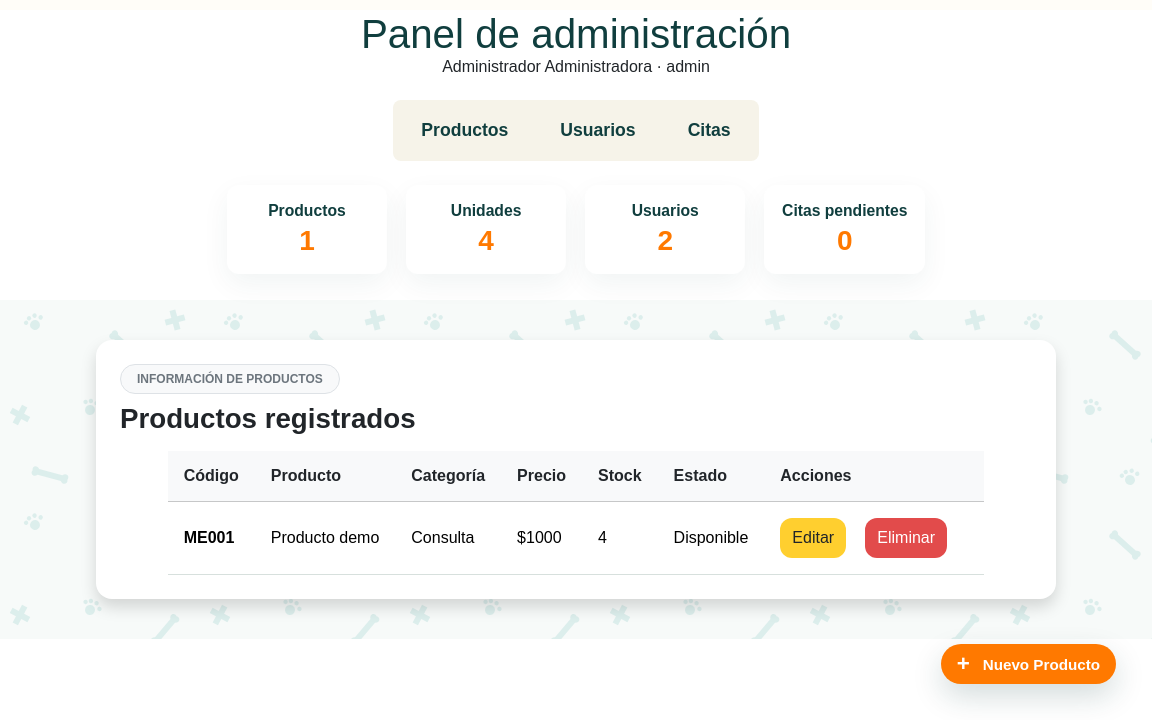
Test case: abre la edición del producto como overlay
What coordinates should you click on to do the following:
click the button "Editar"
I would click on:
 (813, 538)
Its box is [780,518,846,558].
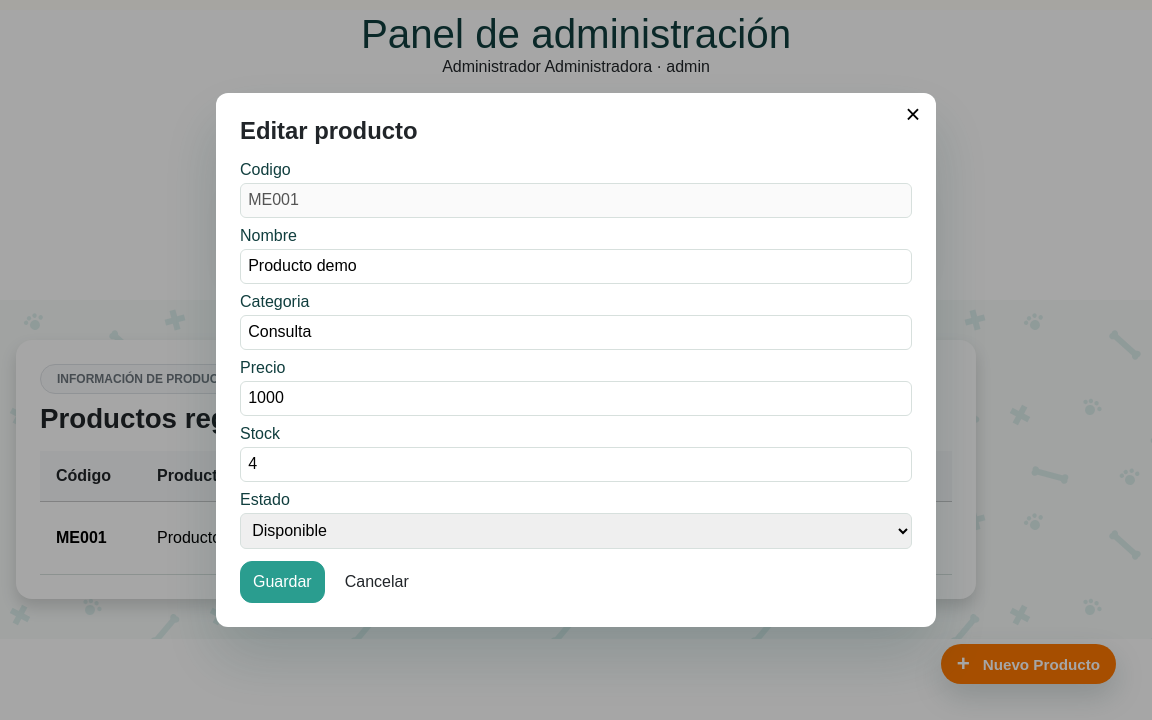
Now the dialog is shown
Now the heading "Editar producto" is shown, box [240,117,418,144]
Now the field labelled "Nombre" holds "Producto demo", box [240,249,912,284]
